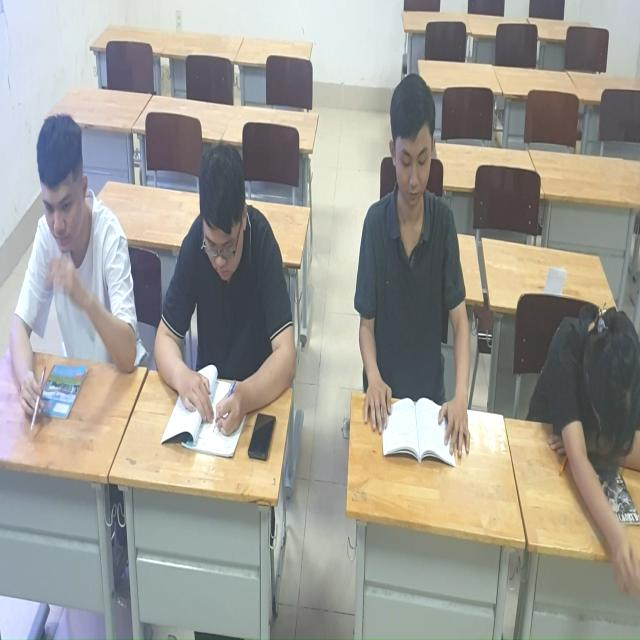raise_hand: (2, 120, 143, 434)
read: (353, 68, 475, 471), (151, 140, 297, 467)
sleep: (529, 301, 640, 605)
